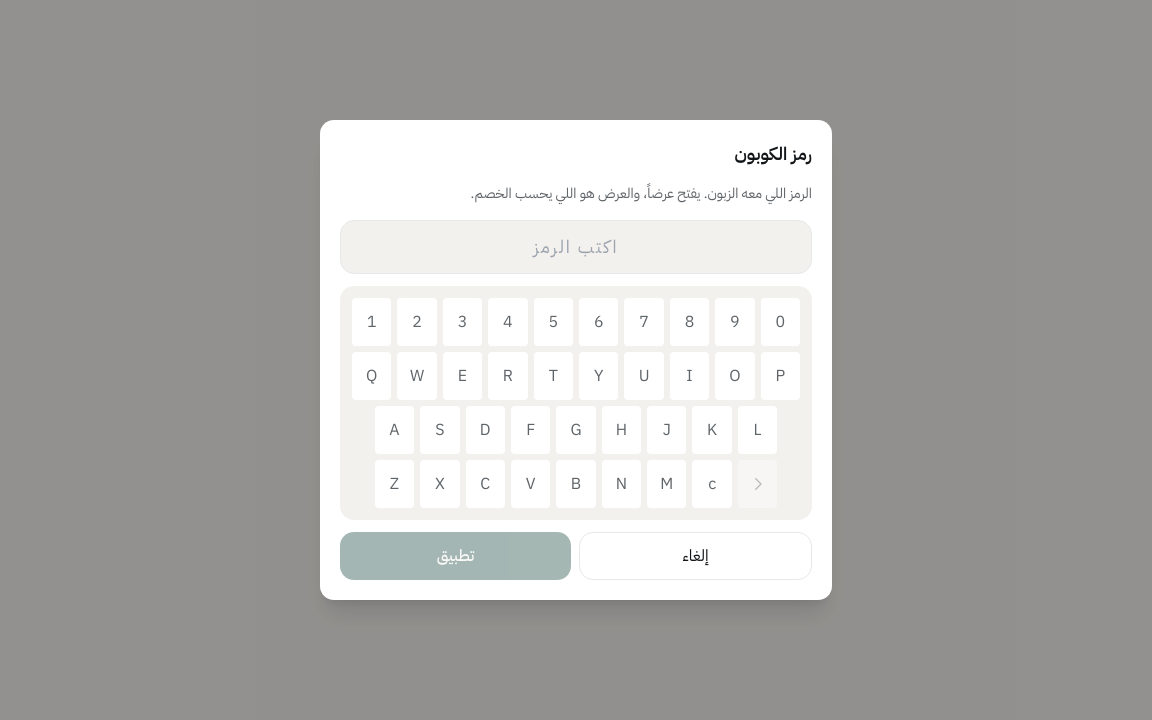
Test: entering a coupon › types a numbered code, digit for digit
Click the button "1": (372, 322) [352,298,391,346]
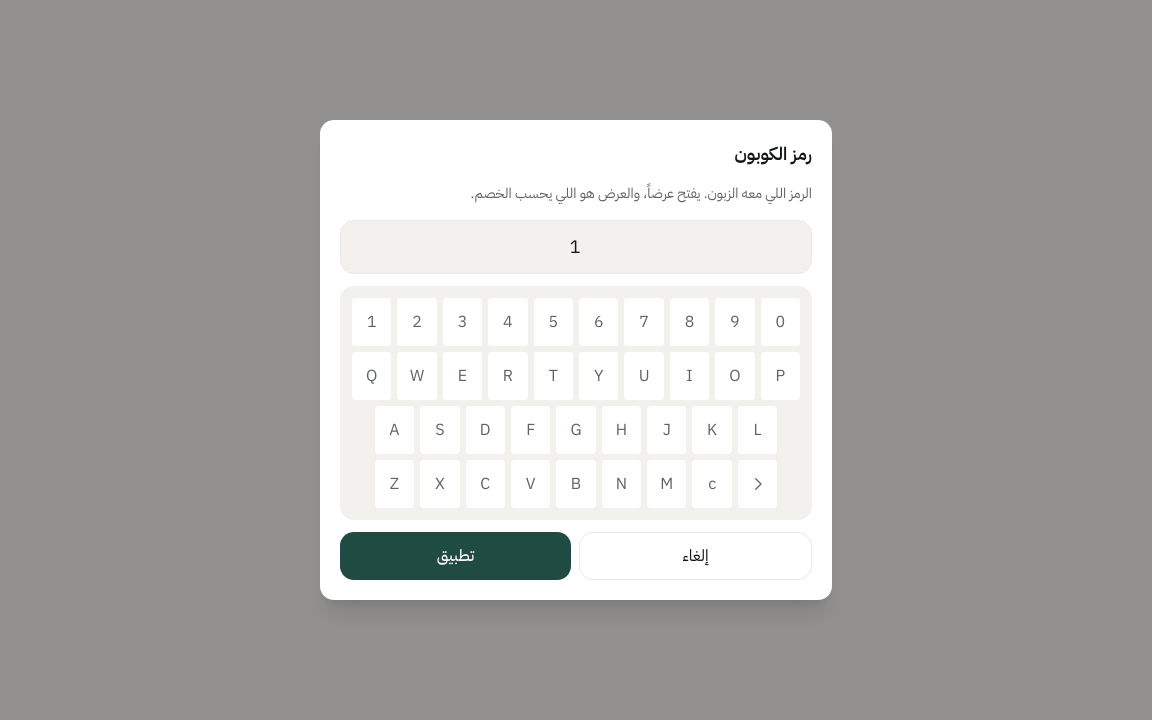
Click the button "0": (780, 322) [761,298,800,346]
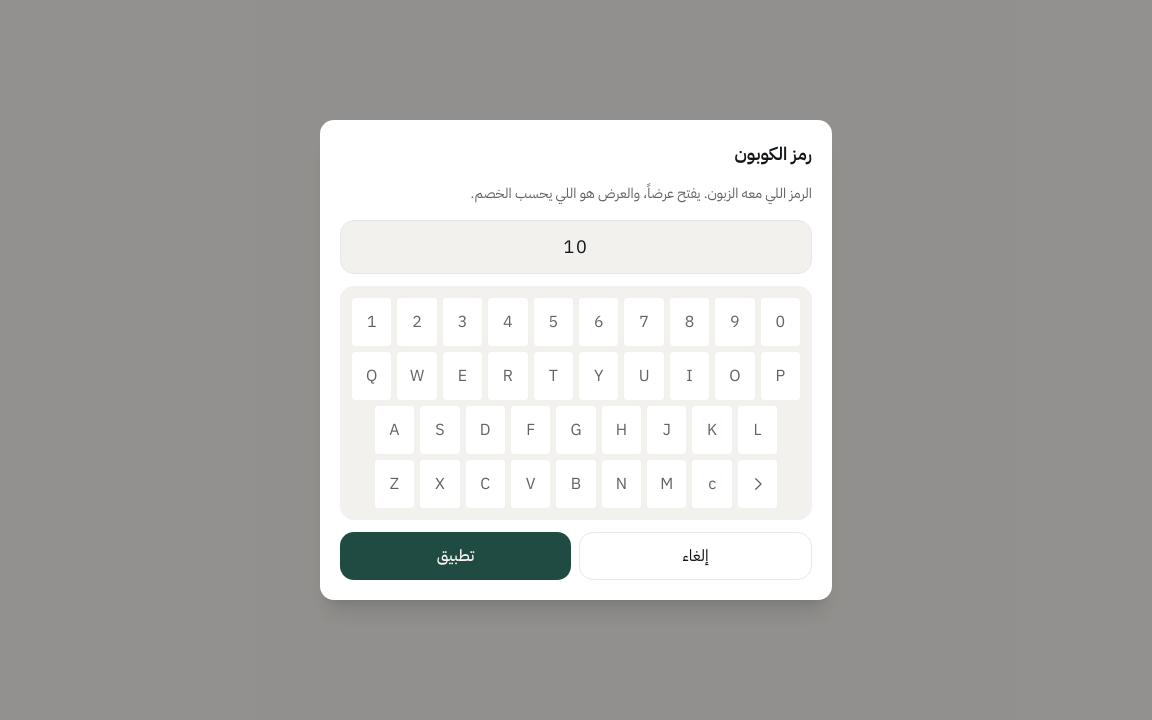
Click the button "0": (780, 322) [761,298,800,346]
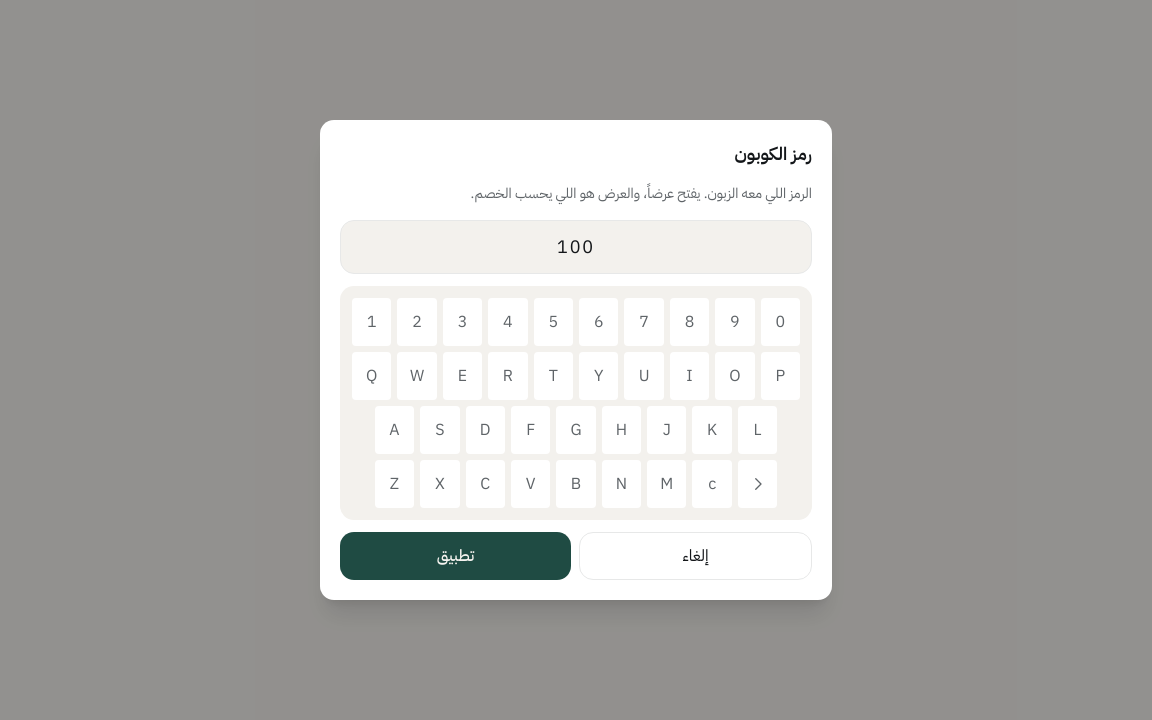
Click the button "0": (780, 322) [761,298,800,346]
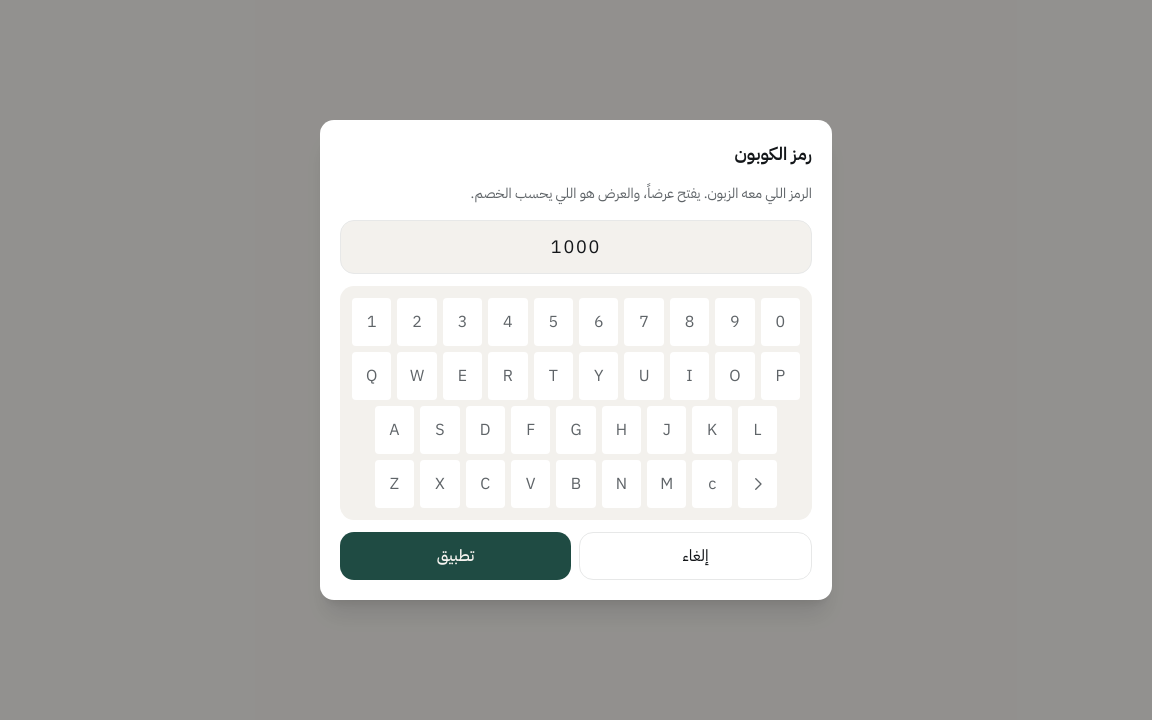
Click the button "1": (372, 322) [352,298,391,346]
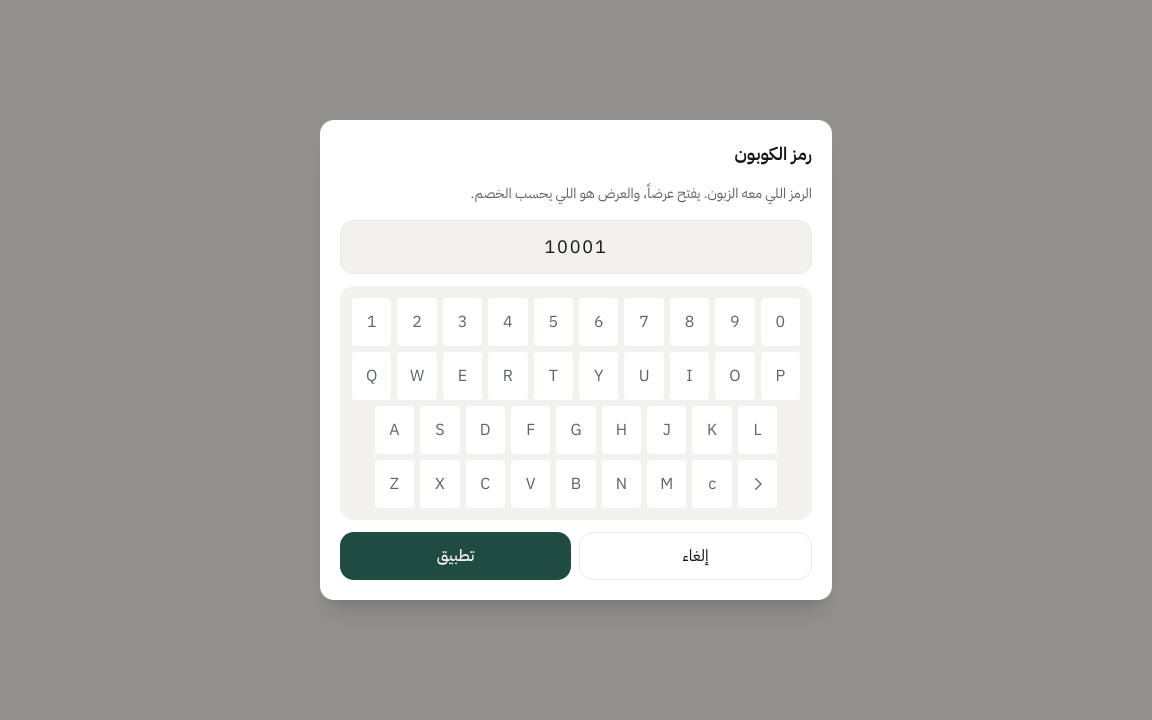
Check: the field holds "10001", box [340,220,812,274]
